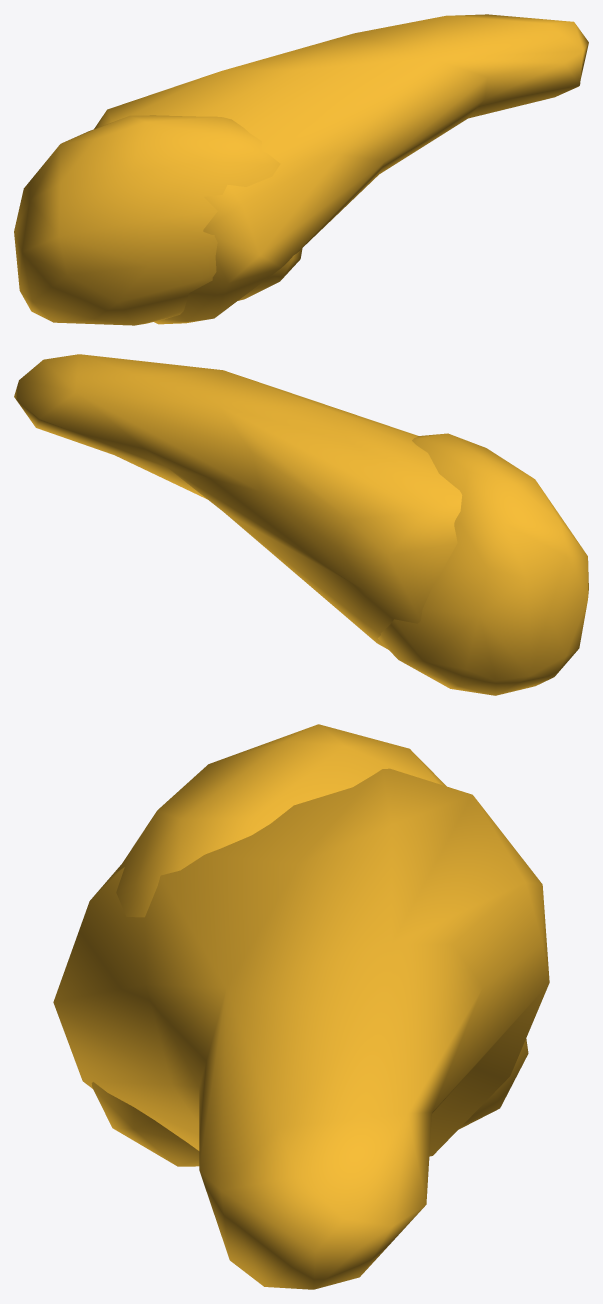
The model's file is nervoso-superior-colliculus-l.glb.
3 views of the same model, one above another, from view 1: azimuth 30°, elevation 25°; view 2: azimuth 150°, elevation 25°; view 3: azimuth 270°, elevation 25° (orthographic). The views are drawn at different scales.
Visible parts, largest first — view 1: Superior colliculus.l; view 2: Superior colliculus.l; view 3: Superior colliculus.l.
Boxes of the visible parts, bbox=[...] form: Superior colliculus.l: bbox=[14, 14, 588, 325]; Superior colliculus.l: bbox=[14, 354, 588, 695]; Superior colliculus.l: bbox=[53, 724, 549, 1289].
Bounding box in the file's own units: 0.017 × 0.00635 × 0.00647.
